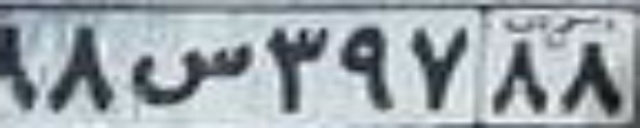3: (268, 25, 328, 114)
7: (410, 25, 471, 110)
8: (47, 25, 114, 113), (555, 40, 624, 117), (488, 37, 546, 115), (0, 26, 39, 111)
9: (338, 26, 394, 111)
sin: (132, 39, 251, 106)
